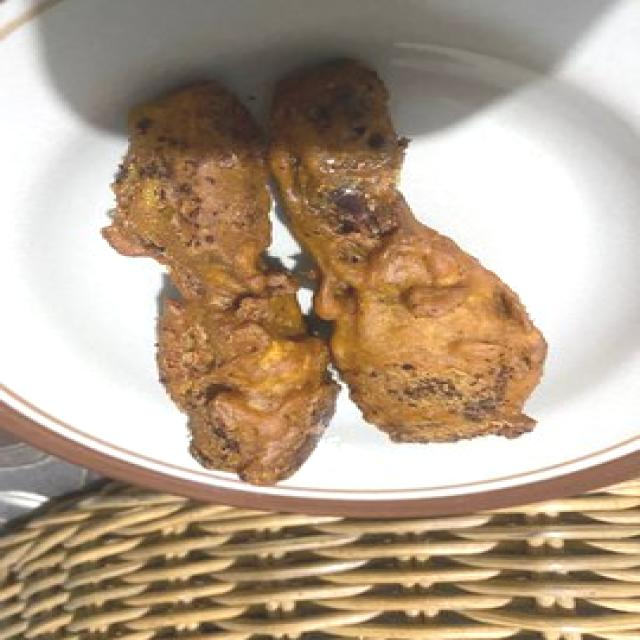ayam goreng: (265, 57, 550, 443), (104, 78, 339, 485)
